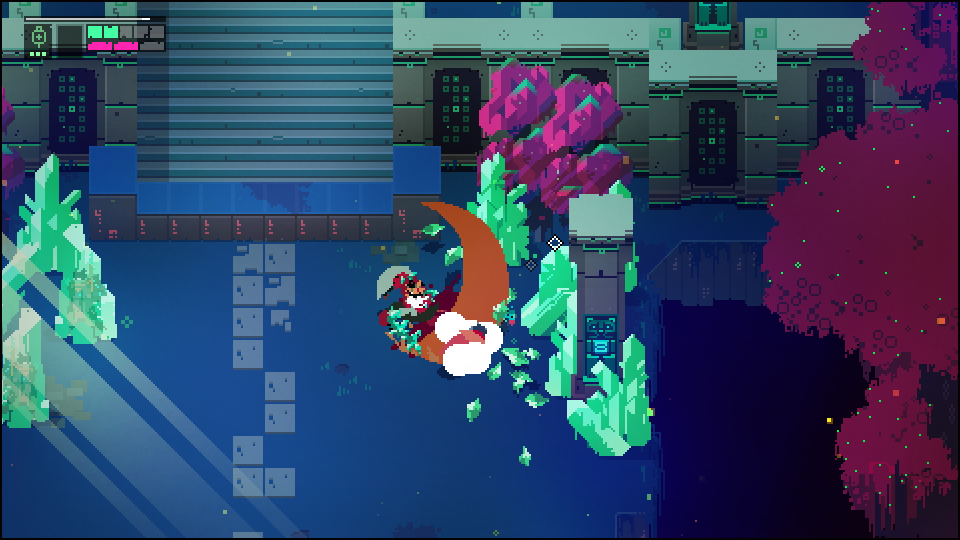hanged_man: (368, 259, 455, 373)
player: (450, 324, 491, 367)
